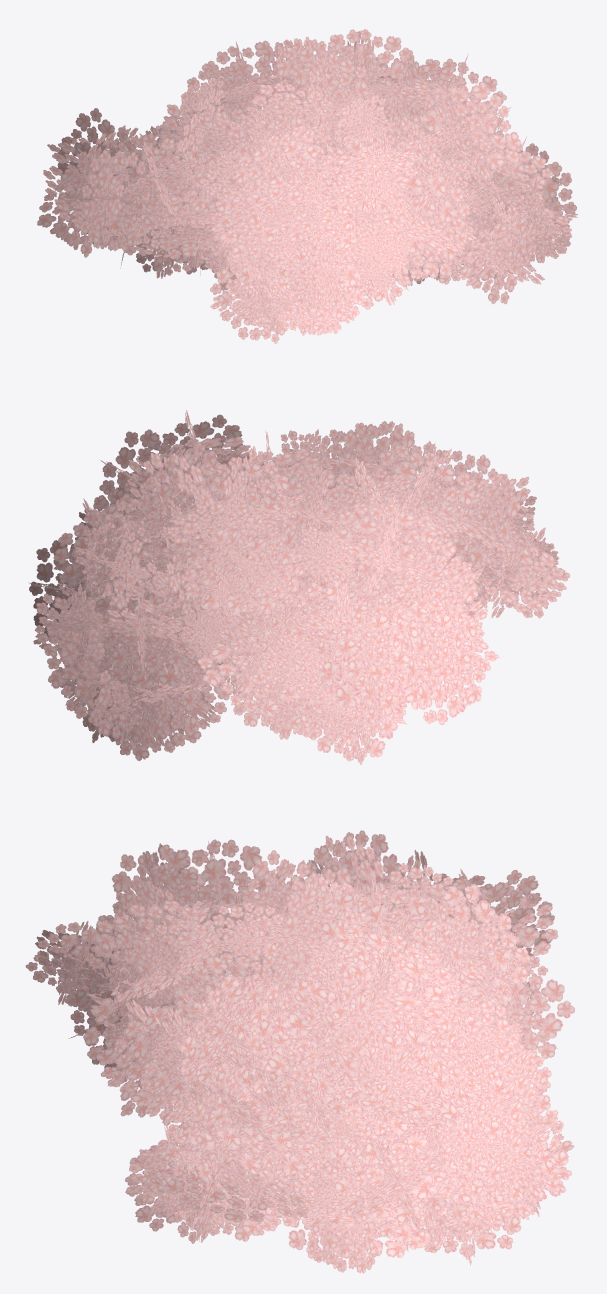
Rendered from SM_SukuraC_Sakura.fbx.
3 views of the same model, one above another, from view 1: azimuth 30°, elevation 25°; view 2: azimuth 150°, elevation 25°; view 3: azimuth 270°, elevation 25° (orthographic). The views are drawn at different scales.
Visible parts, largest first — view 1: SM_SukuraC_Sakura; view 2: SM_SukuraC_Sakura; view 3: SM_SukuraC_Sakura.
Boxes of the visible parts, x1,y1,x2,y2 form: SM_SukuraC_Sakura: (37,29,578,343); SM_SukuraC_Sakura: (28,410,570,764); SM_SukuraC_Sakura: (25,830,574,1273).
Size of the model in its own units: 12.86 by 7.2 by 10.84.
